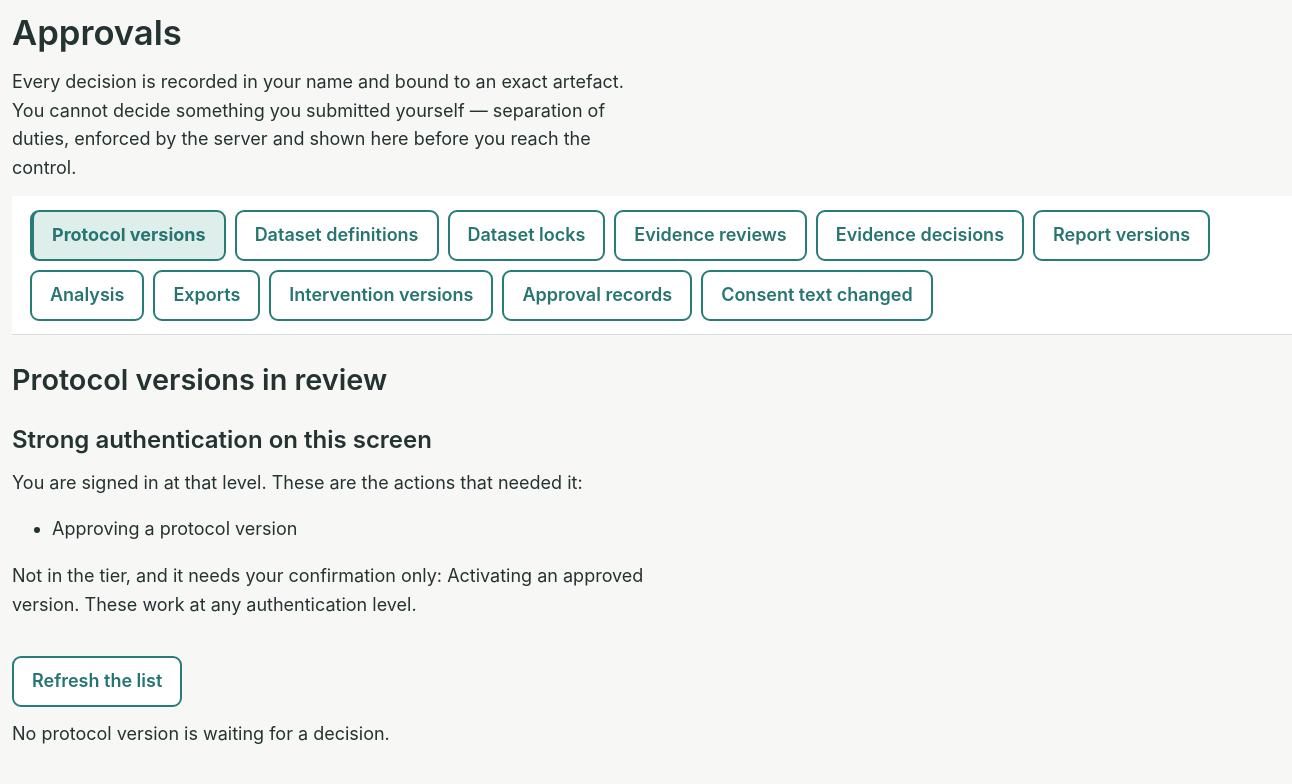
staff work queues replace manual identifier entry › locking says plainly that the definition approver may also lock, and names them
This screenshot has width=1292, height=784.
Click the button "Dataset locks" at (526, 235), box [448,210,605,261]
(page scrolled)
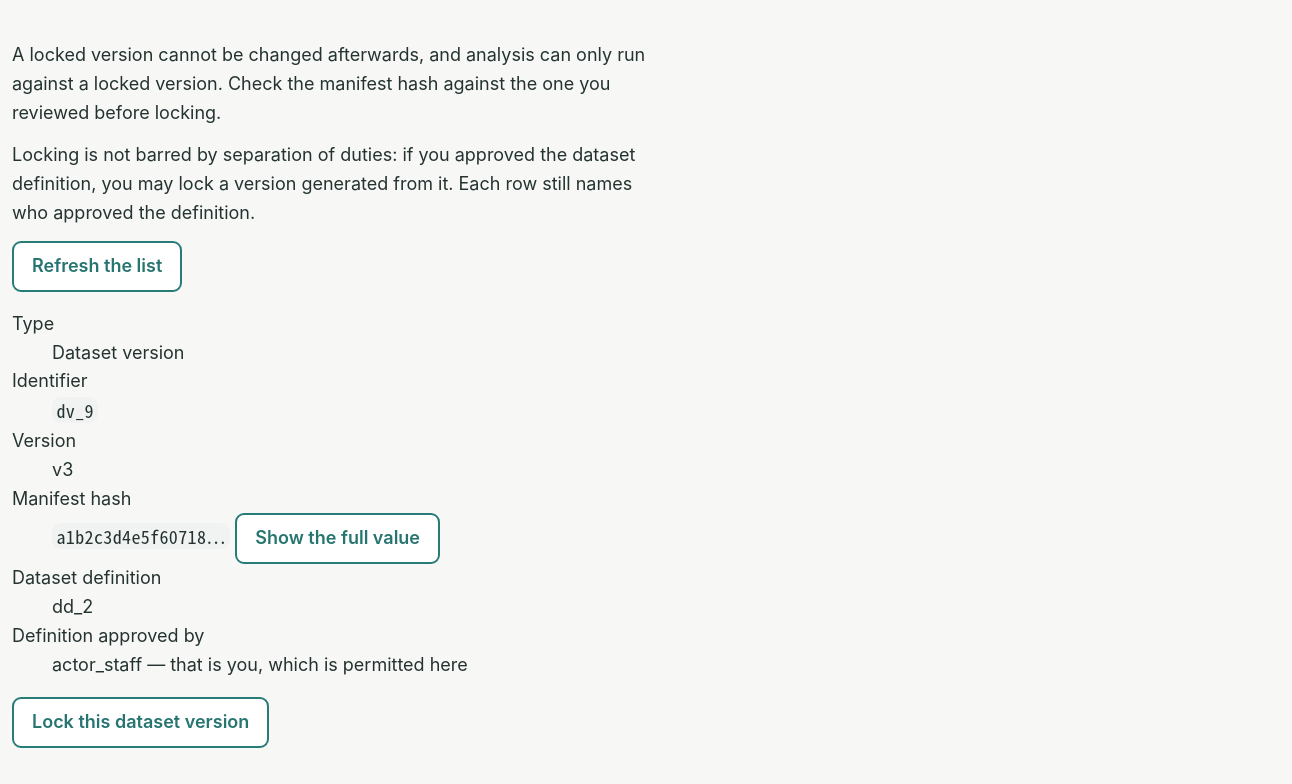
Now the element named "Dataset version dv_9" shows "that is you, which is permitted here", box [52,654,468,674]
Now the text "not barred by separation of duties" is shown, box [12,144,635,223]
Now the button "Lock this dataset version" is enabled, box [12,697,269,748]
